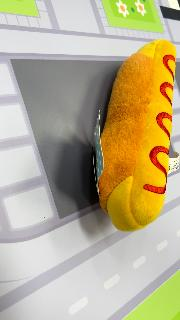hotdog: (95, 39, 177, 233)
